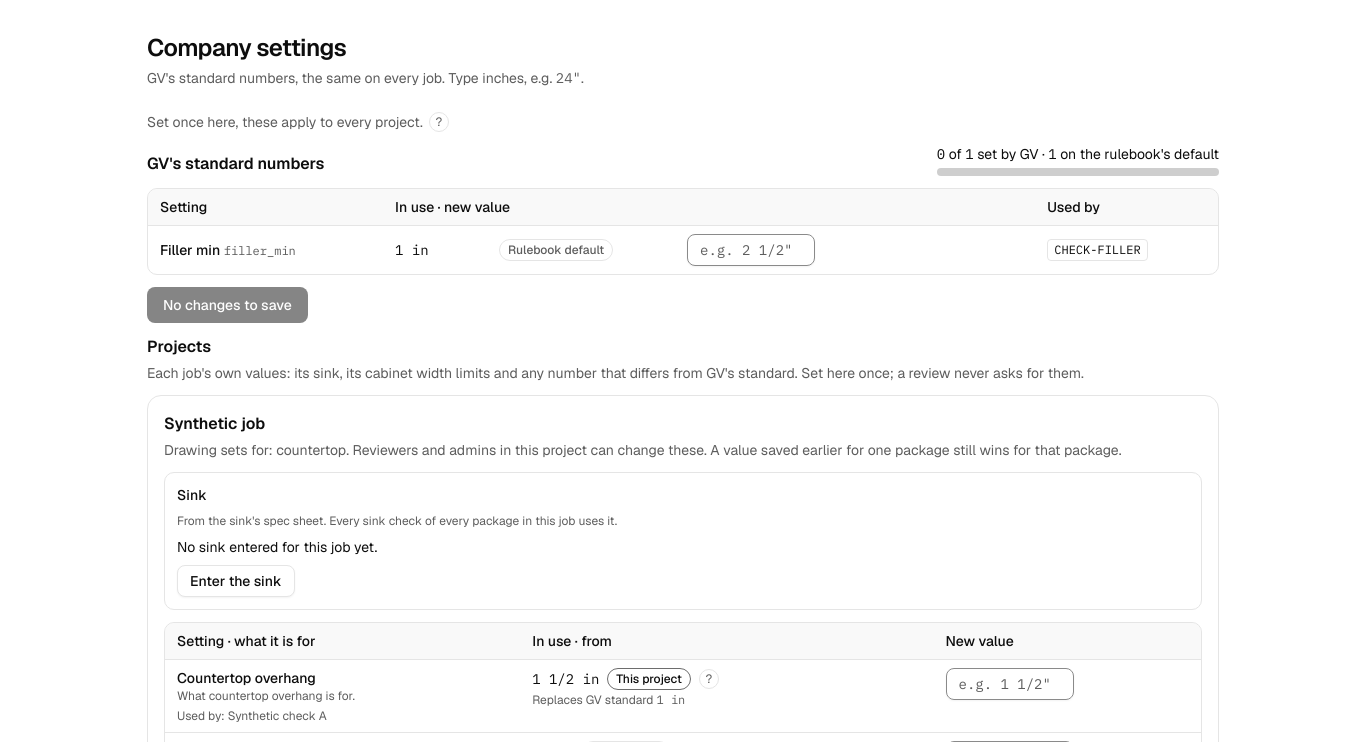
Projects: what overrides what, and where it came from (#1369 item 2) › shows the server's own refusal as a status, and a save as a status
Type "9\"" into the field named "New value for Countertop overhang" at (1010, 684), box [946,668,1074,700]
(page scrolled)
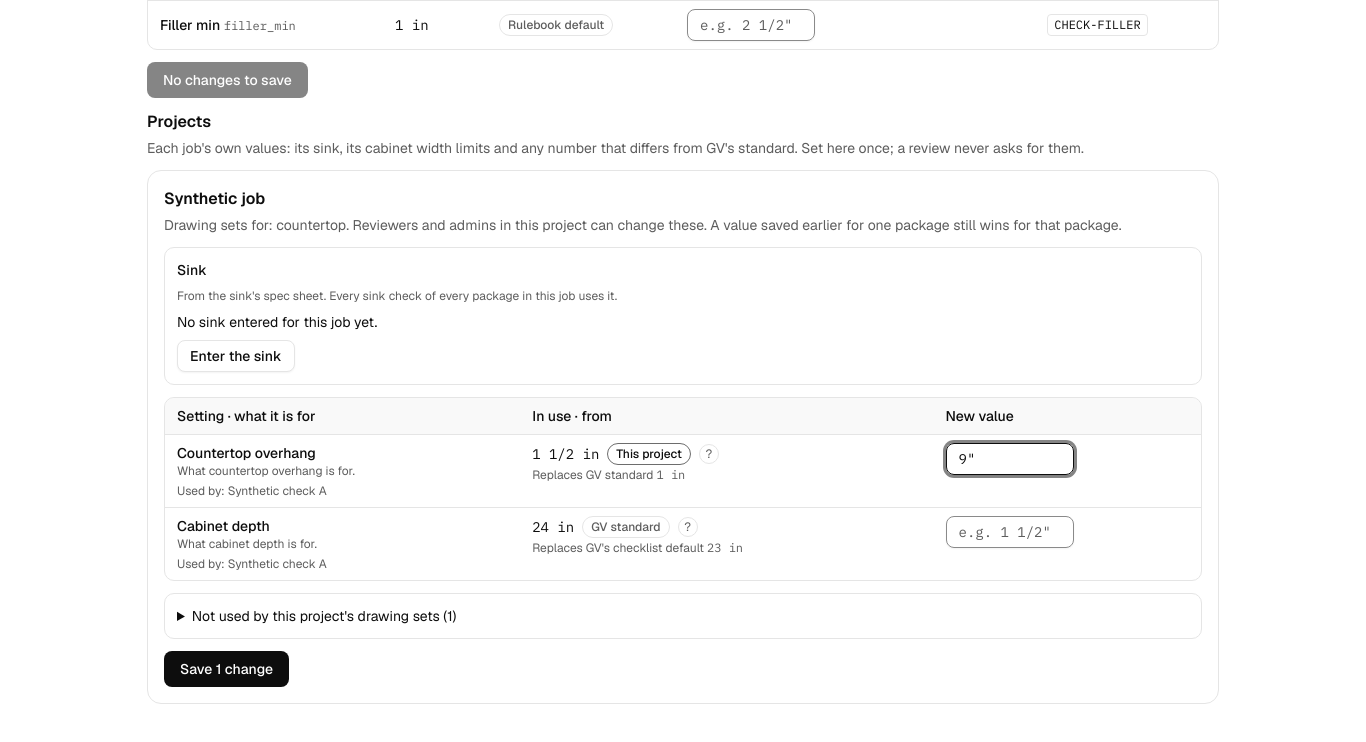
Click the button "Save 1 change" at (227, 669), box [164,651,289,687]
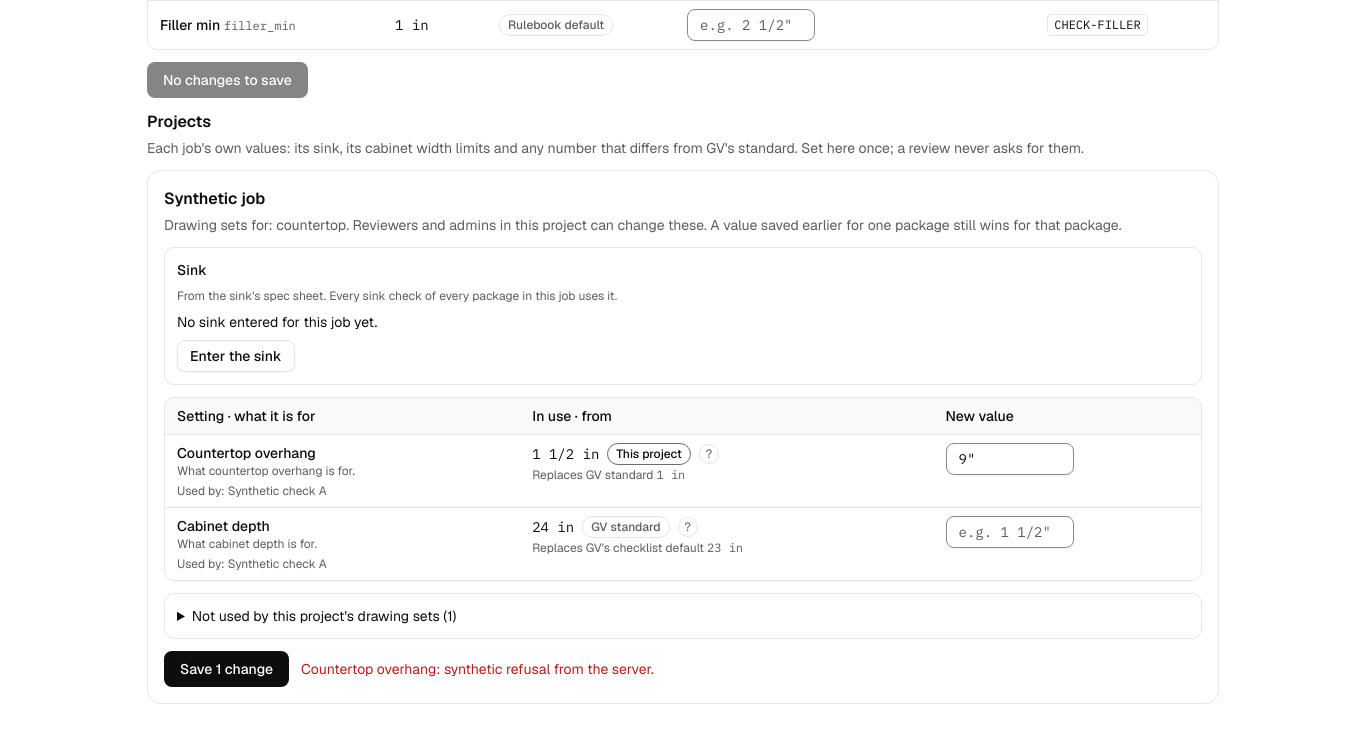
Now the text "Countertop overhang: synthetic refusal from the server." is shown, box [301,659,654,679]
Click the button "Save 1 change" at (227, 669), box [164,651,289,687]
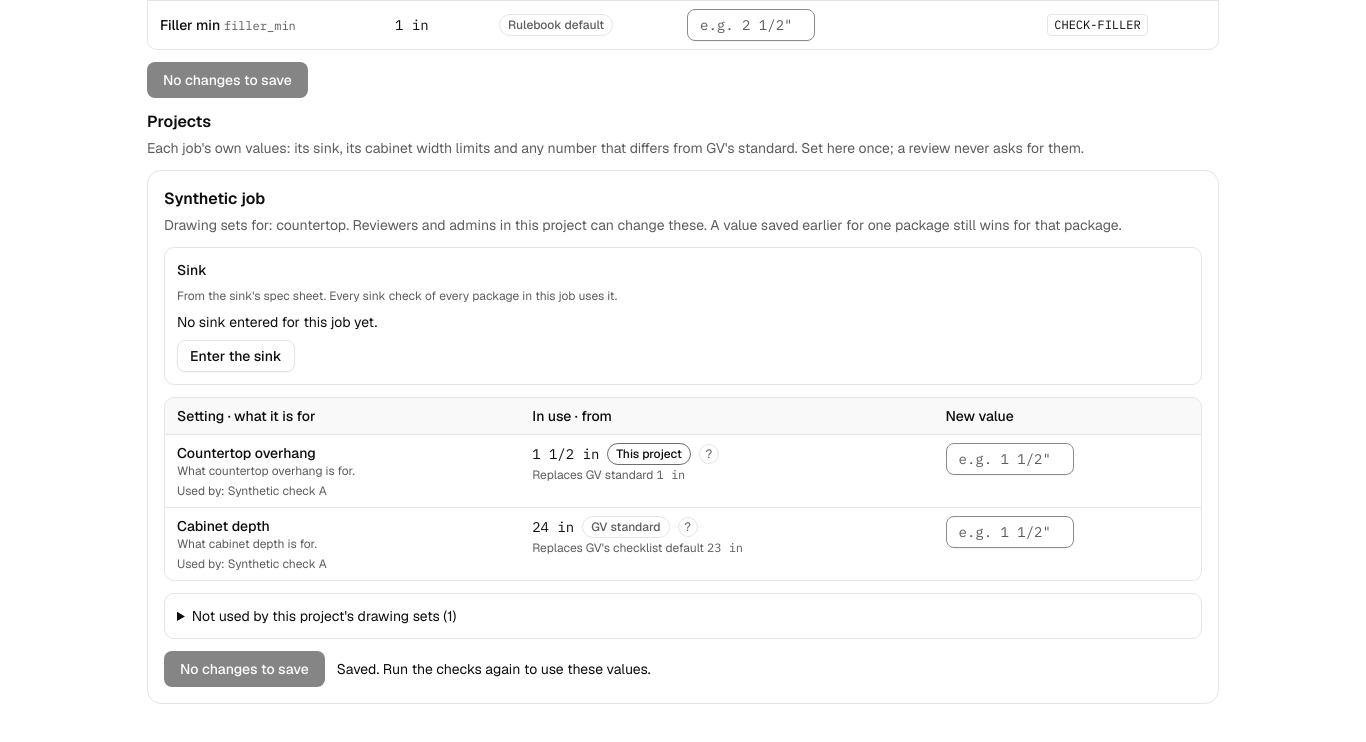
Now the text "Saved. Run the checks again to use these values." is shown, box [337,659,651,679]
